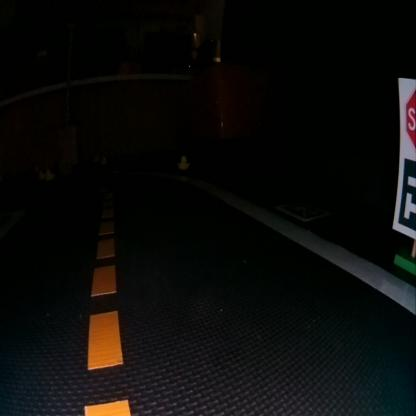Duckie: (178, 154, 187, 168), (46, 171, 52, 179), (38, 170, 44, 178)
QR code: (393, 157, 415, 229), (276, 201, 330, 221)
Stop sign: (398, 76, 414, 149)
